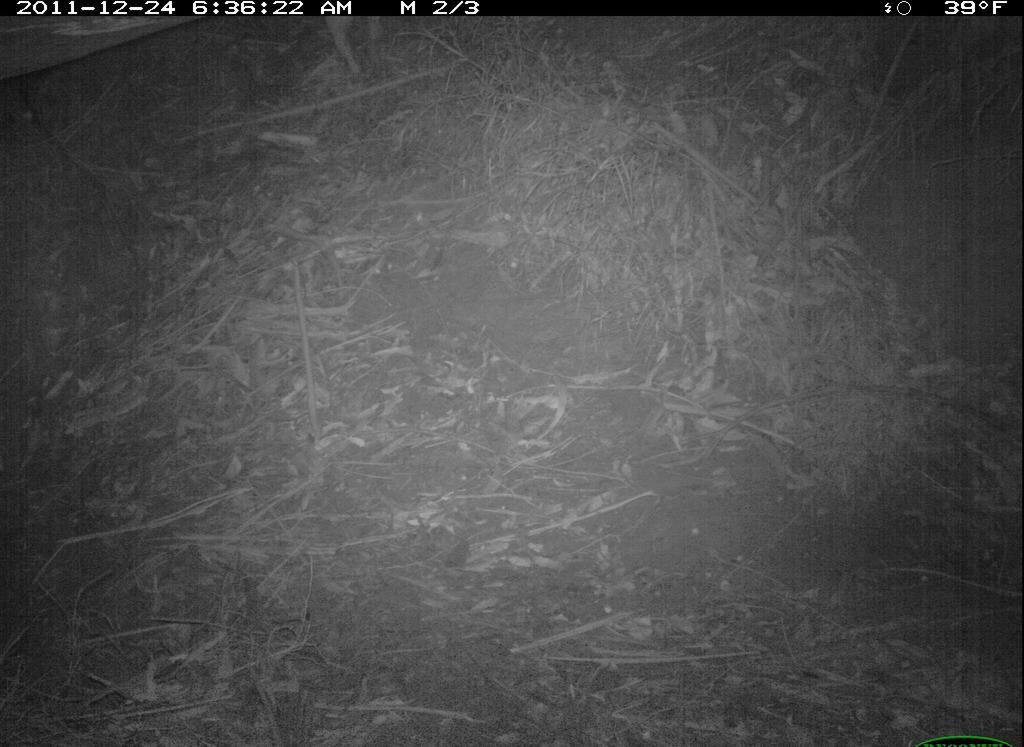dog: (319, 12, 393, 92)
